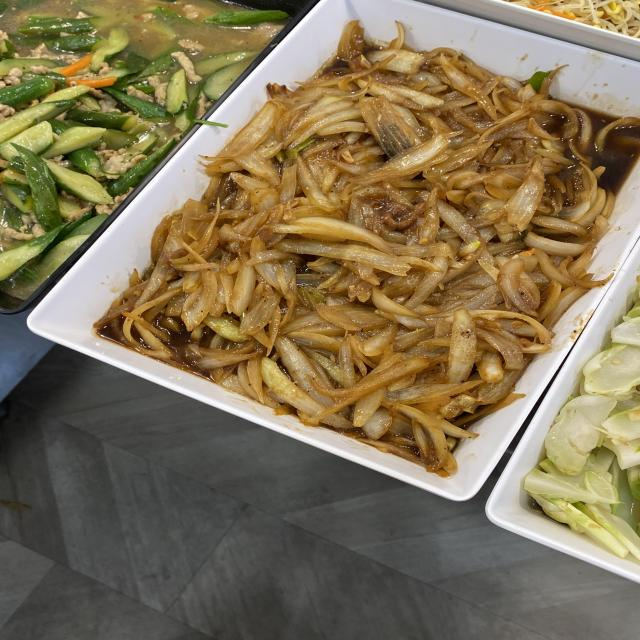Fried onions: (249, 113, 507, 366)
